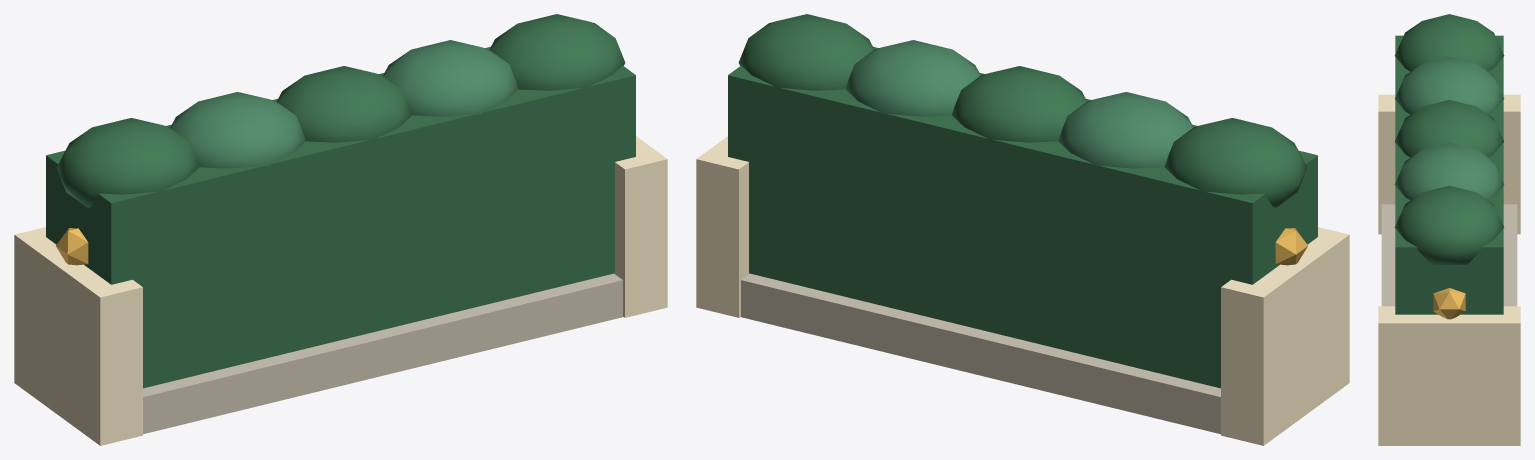
The model's file is deco_hedge.glb.
3 renders of one model, left to right at view 1: azimuth 30°, elevation 25°; view 2: azimuth 150°, elevation 25°; view 3: azimuth 270°, elevation 25°, orthographic. The views are drawn at different scales.
Parts seen in each view (by area): view 1: deco_hedge; view 2: deco_hedge; view 3: deco_hedge.
Part boxes in pixels (left/top/right/bottom): deco_hedge: left=14, top=14, right=667, bottom=445; deco_hedge: left=696, top=14, right=1349, bottom=445; deco_hedge: left=1378, top=14, right=1520, bottom=445.
Size of the model in its own units: 4 by 1.82 by 1.05.
